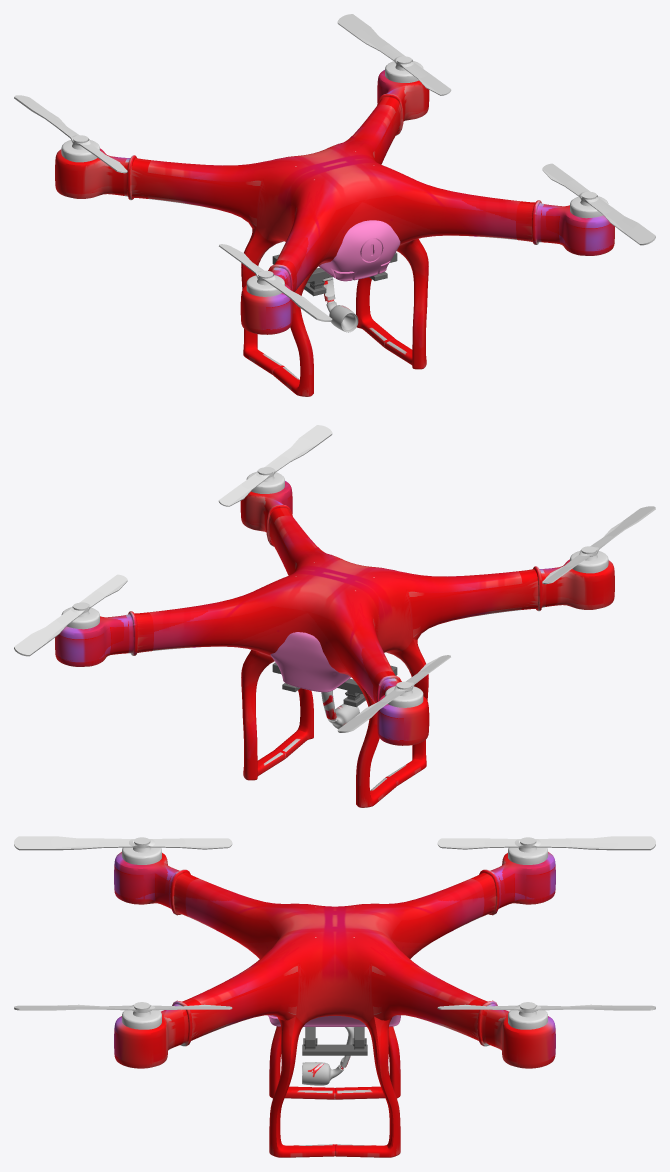
File: drone.fbx
The picture shows the model from 3 angles, top to bottom: view 1: azimuth 30°, elevation 25°; view 2: azimuth 150°, elevation 25°; view 3: azimuth 270°, elevation 25°; orthographic projection. The views are drawn at different scales.
Visible parts, largest first — view 1: Cube, Box.001, Circle.005, Circle.001, Circle.003, Circle.004, Circle.002, Box, Box.002; view 2: Cube, Box.001, Circle.005, Circle.001, Circle.003, Circle.002, Circle.004, Box, Box.002; view 3: Cube, Circle.005, Circle.002, Circle.004, Box.002, Circle.001, Circle.003, Box, Box.001.
Part boxes in pixels (<box>): Cube: <box>55,70,614,396</box>; Box.001: <box>318,220,400,281</box>; Circle.005: <box>61,56,608,296</box>; Circle.001: <box>542,163,655,245</box>; Circle.003: <box>337,14,451,95</box>; Circle.004: <box>14,95,127,173</box>; Circle.002: <box>219,244,332,321</box>; Box: <box>322,277,358,332</box>; Box.002: <box>272,252,397,296</box>; Cube: <box>55,481,614,807</box>; Box.001: <box>270,632,351,692</box>; Circle.005: <box>61,467,608,707</box>; Circle.001: <box>218,425,332,506</box>; Circle.003: <box>14,574,127,656</box>; Circle.002: <box>542,506,655,584</box>; Circle.004: <box>337,655,450,732</box>; Box: <box>321,690,359,729</box>; Box.002: <box>272,662,397,707</box>; Cube: <box>114,852,555,1157</box>; Circle.005: <box>122,837,547,1029</box>; Circle.002: <box>14,836,232,850</box>; Circle.004: <box>437,836,655,850</box>; Box.002: <box>302,1027,367,1055</box>; Circle.001: <box>14,1004,232,1012</box>; Circle.003: <box>437,1004,655,1012</box>; Box: <box>302,1027,354,1085</box>; Box.001: <box>268,1015,400,1026</box>.
Size of the model in its own units: 723 by 370 by 1049.
4 materials, 2 textured.
